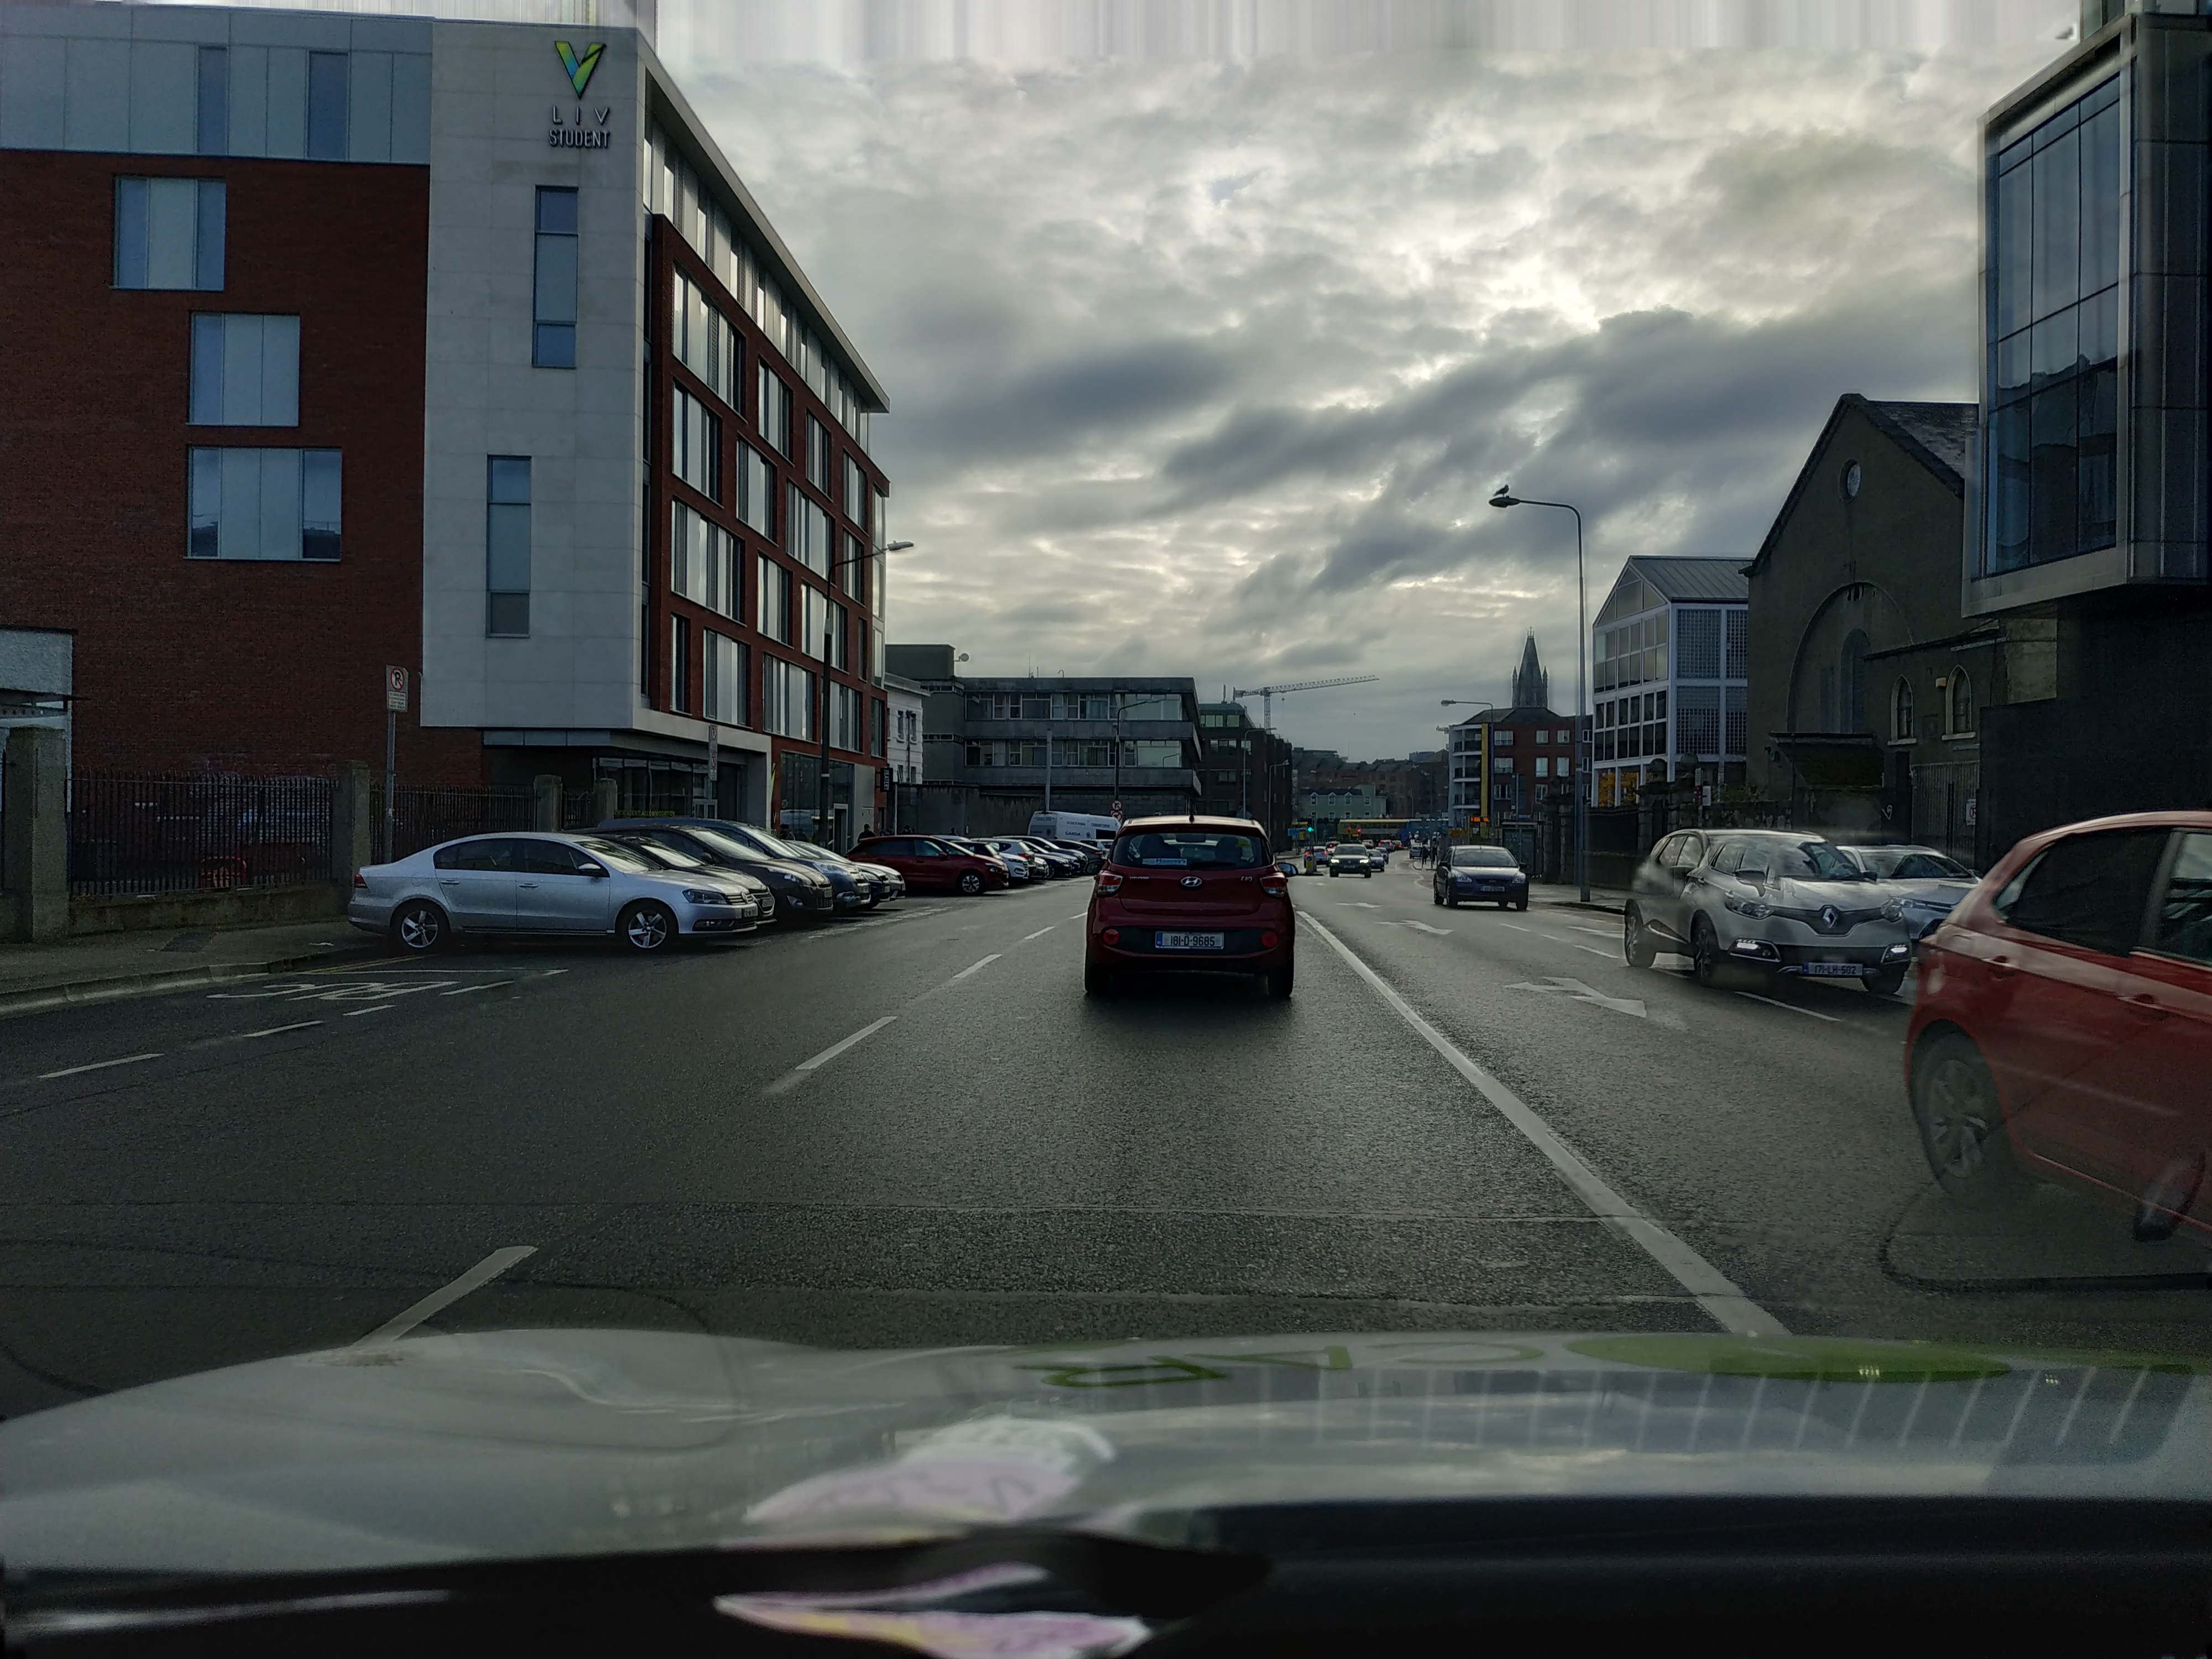Car: (1898, 805, 2212, 1262), (348, 831, 759, 955), (1623, 828, 1912, 993), (1083, 816, 1299, 1000), (833, 835, 1008, 896), (1433, 845, 1529, 911), (1327, 843, 1372, 878)
